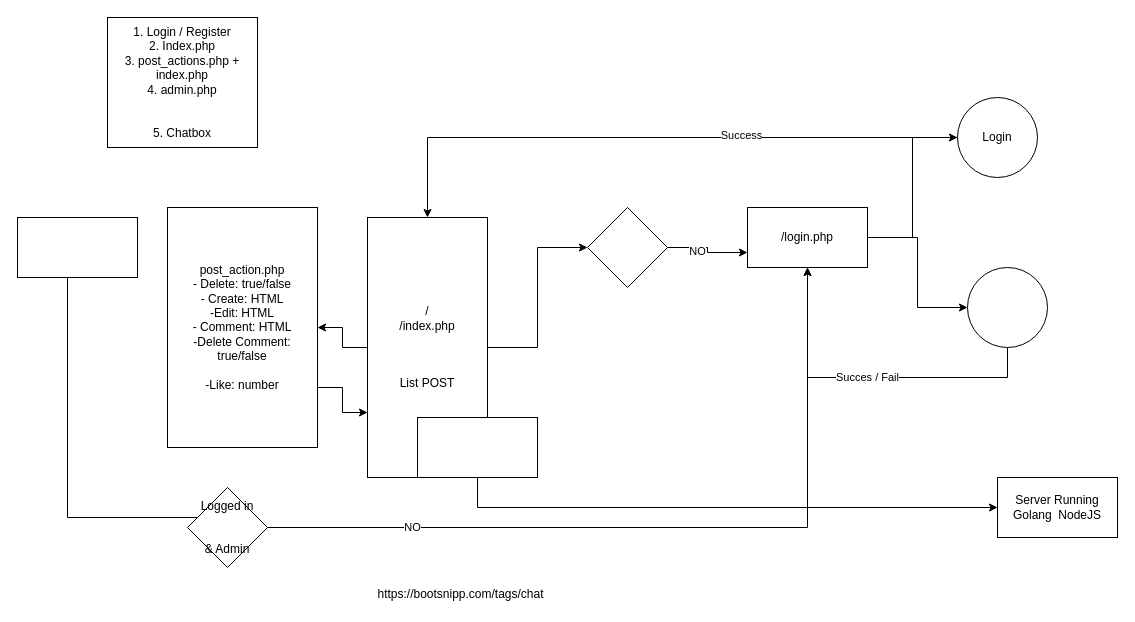
This 1135x622 diagram has some shape labels left out. The centre of each missing label's shape, as x and y in pixels:
/admin.php Disable / Enable action: (x=77, y=247)
Chatbox: (x=477, y=447)
Logged in: (x=627, y=247)
Register: (x=1007, y=307)
